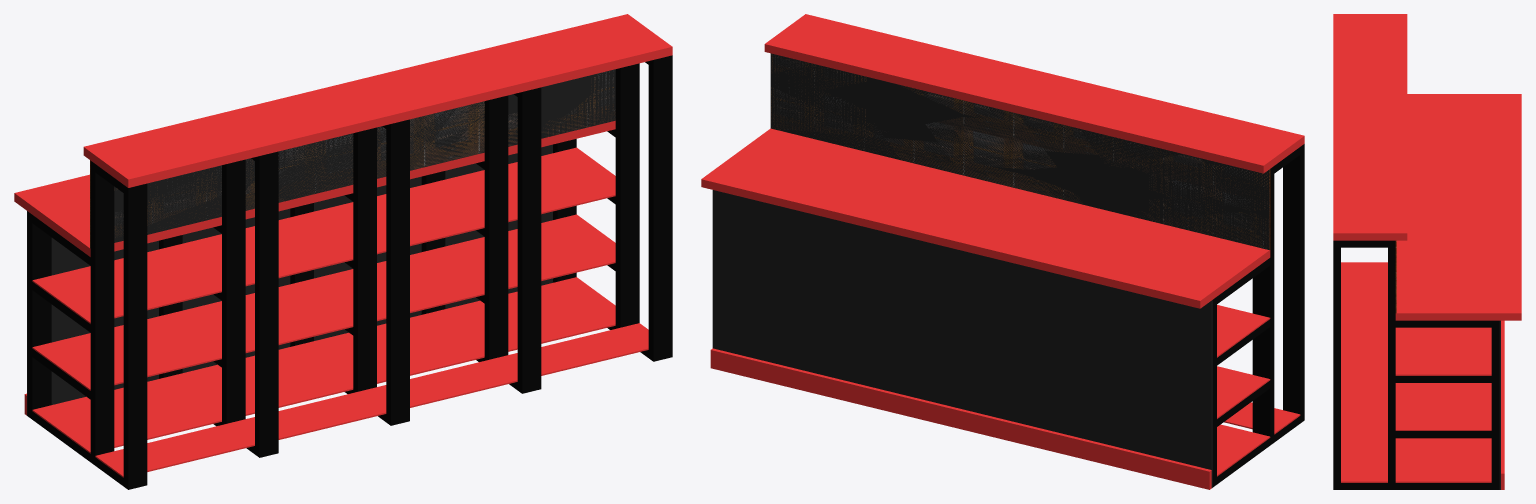
The picture shows the model from 3 angles, left to right: view 1: azimuth 30°, elevation 25°; view 2: azimuth 150°, elevation 25°; view 3: azimuth 270°, elevation 25°; orthographic projection. The views are drawn at different scales.
Parts seen in each view (by area): view 1: mesh7_mesh7-geometry, mesh17_mesh17-geometry, mesh27_mesh27-geometry, mesh31_mesh31-geometry, mesh25_mesh25-geometry, mesh13_mesh13-geometry, mesh5_mesh5-geometry, mesh19_mesh19-geometry, mesh1_mesh1-geometry, mesh9_mesh9-geometry, mesh3_mesh3-geometry, mesh23_mesh23-geometry (+2 smaller); view 2: mesh13_mesh13-geometry, mesh31_mesh31-geometry, mesh19_mesh19-geometry, mesh27_mesh27-geometry, mesh15_mesh15-geometry, mesh23_mesh23-geometry, mesh7_mesh7-geometry, mesh17_mesh17-geometry, mesh9_mesh9-geometry, mesh5_mesh5-geometry, mesh25_mesh25-geometry, mesh21_mesh21-geometry (+1 smaller); view 3: mesh19_mesh19-geometry, mesh27_mesh27-geometry, mesh17_mesh17-geometry, mesh25_mesh25-geometry, mesh7_mesh7-geometry, mesh9_mesh9-geometry, mesh5_mesh5-geometry, mesh1_mesh1-geometry, mesh21_mesh21-geometry, mesh23_mesh23-geometry, mesh11_mesh11-geometry, mesh15_mesh15-geometry (+3 smaller).
Part boxes in pixels (left/top/right/bottom): mesh7_mesh7-geometry: left=90, top=63, right=672, bottom=481; mesh17_mesh17-geometry: left=32, top=147, right=615, bottom=453; mesh27_mesh27-geometry: left=86, top=15, right=671, bottom=187; mesh31_mesh31-geometry: left=90, top=69, right=615, bottom=248; mesh25_mesh25-geometry: left=95, top=323, right=648, bottom=477; mesh13_mesh13-geometry: left=27, top=144, right=552, bottom=415; mesh5_mesh5-geometry: left=27, top=139, right=576, bottom=410; mesh19_mesh19-geometry: left=17, top=120, right=615, bottom=251; mesh1_mesh1-geometry: left=27, top=280, right=672, bottom=489; mesh9_mesh9-geometry: left=32, top=196, right=615, bottom=399; mesh3_mesh3-geometry: left=90, top=55, right=672, bottom=196; mesh23_mesh23-geometry: left=14, top=14, right=627, bottom=201; mesh13_mesh13-geometry: left=712, top=190, right=1212, bottom=487; mesh31_mesh31-geometry: left=770, top=53, right=1270, bottom=249; mesh19_mesh19-geometry: left=703, top=129, right=1267, bottom=299; mesh27_mesh27-geometry: left=767, top=14, right=1302, bottom=164; mesh15_mesh15-geometry: left=710, top=348, right=1211, bottom=489; mesh23_mesh23-geometry: left=701, top=43, right=1264, bottom=308; mesh7_mesh7-geometry: left=1252, top=152, right=1304, bottom=437; mesh17_mesh17-geometry: left=1217, top=305, right=1270, bottom=476; mesh9_mesh9-geometry: left=1217, top=319, right=1270, bottom=426; mesh5_mesh5-geometry: left=1212, top=304, right=1216, bottom=479; mesh25_mesh25-geometry: left=1224, top=402, right=1300, bottom=434; mesh21_mesh21-geometry: left=702, top=128, right=1270, bottom=307; mesh19_mesh19-geometry: left=1396, top=94, right=1520, bottom=312; mesh27_mesh27-geometry: left=1333, top=14, right=1405, bottom=232; mesh17_mesh17-geometry: left=1395, top=327, right=1491, bottom=482; mesh25_mesh25-geometry: left=1341, top=262, right=1387, bottom=482; mesh7_mesh7-geometry: left=1333, top=247, right=1395, bottom=482; mesh9_mesh9-geometry: left=1395, top=376, right=1491, bottom=438; mesh5_mesh5-geometry: left=1491, top=327, right=1499, bottom=482; mesh1_mesh1-geometry: left=1333, top=483, right=1499, bottom=489; mesh21_mesh21-geometry: left=1395, top=94, right=1520, bottom=320; mesh23_mesh23-geometry: left=1406, top=14, right=1521, bottom=320; mesh11_mesh11-geometry: left=1395, top=320, right=1499, bottom=327; mesh15_mesh15-geometry: left=1501, top=320, right=1504, bottom=489.
Size of the model in its own units: 0.8367 by 0.456 by 0.3033.
